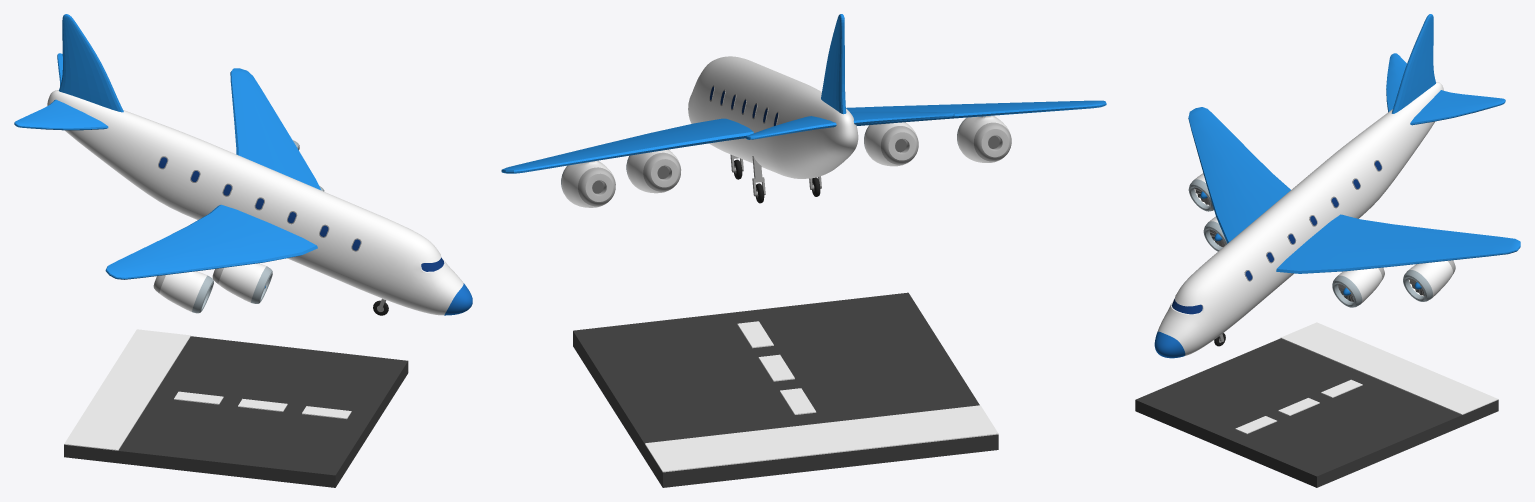
File: airplane_arrival.glb
The picture shows the model from 3 angles, left to right: view 1: azimuth 30°, elevation 25°; view 2: azimuth 150°, elevation 25°; view 3: azimuth 270°, elevation 25°; orthographic projection. The views are drawn at different scales.
Visible parts, largest first — view 1: Cube.798, Cube.799; view 2: Cube.799, Cube.798; view 3: Cube.798, Cube.799.
Part boxes in pixels (x1,y1,x2,y2): Cube.798: (14, 14, 472, 315); Cube.799: (64, 329, 408, 487); Cube.799: (573, 292, 998, 487); Cube.798: (501, 14, 1106, 207); Cube.798: (1154, 14, 1520, 358); Cube.799: (1135, 322, 1498, 487).
Bounding box in the file's own units: 2.1 × 2.1 × 2.1.
Materials: 1 (1 with a texture image).
